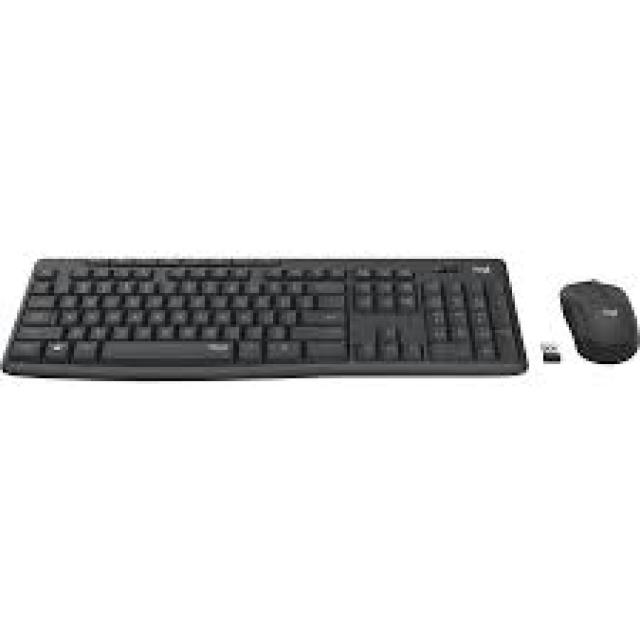keyboard: (15, 244, 529, 380)
mouse: (557, 276, 640, 367)
